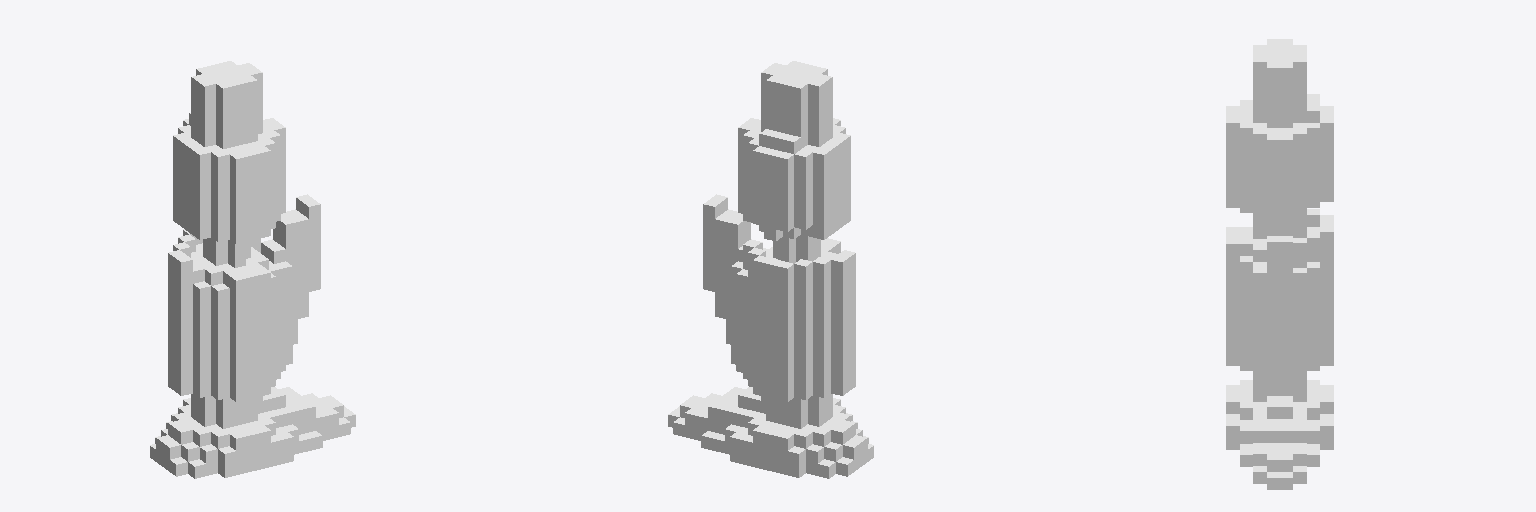
The model's file is Robot-0.obj.
3 renders of one model, left to right at view 1: azimuth 30°, elevation 25°; view 2: azimuth 150°, elevation 25°; view 3: azimuth 270°, elevation 25°, orthographic.
Visible parts, largest first — view 1: object 1; view 2: object 1; view 3: object 1.
Part boxes in pixels (bbox=[...]): object 1: bbox=[150, 61, 355, 478]; object 1: bbox=[668, 61, 873, 478]; object 1: bbox=[1226, 39, 1333, 489].
Size of the model in its own units: 1.6 by 3.1 by 0.8.